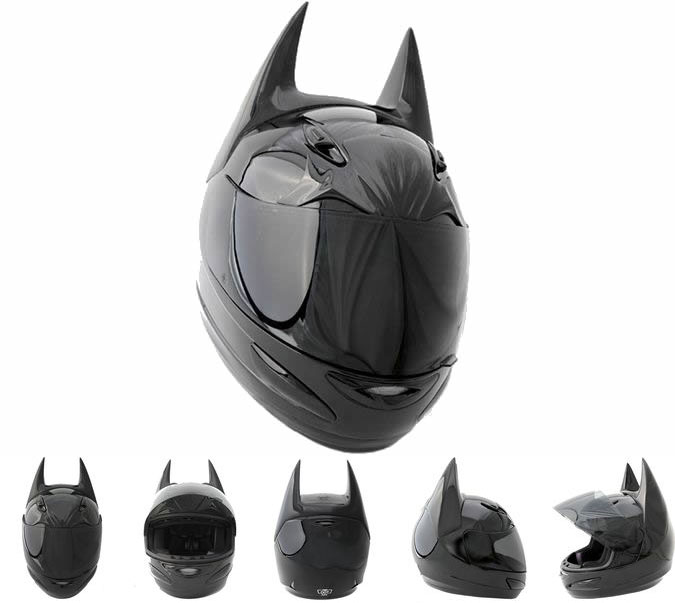with_helmet: (189, 3, 497, 455), (406, 456, 534, 603), (545, 460, 675, 600), (136, 456, 243, 601), (271, 456, 373, 603), (21, 454, 107, 601)
